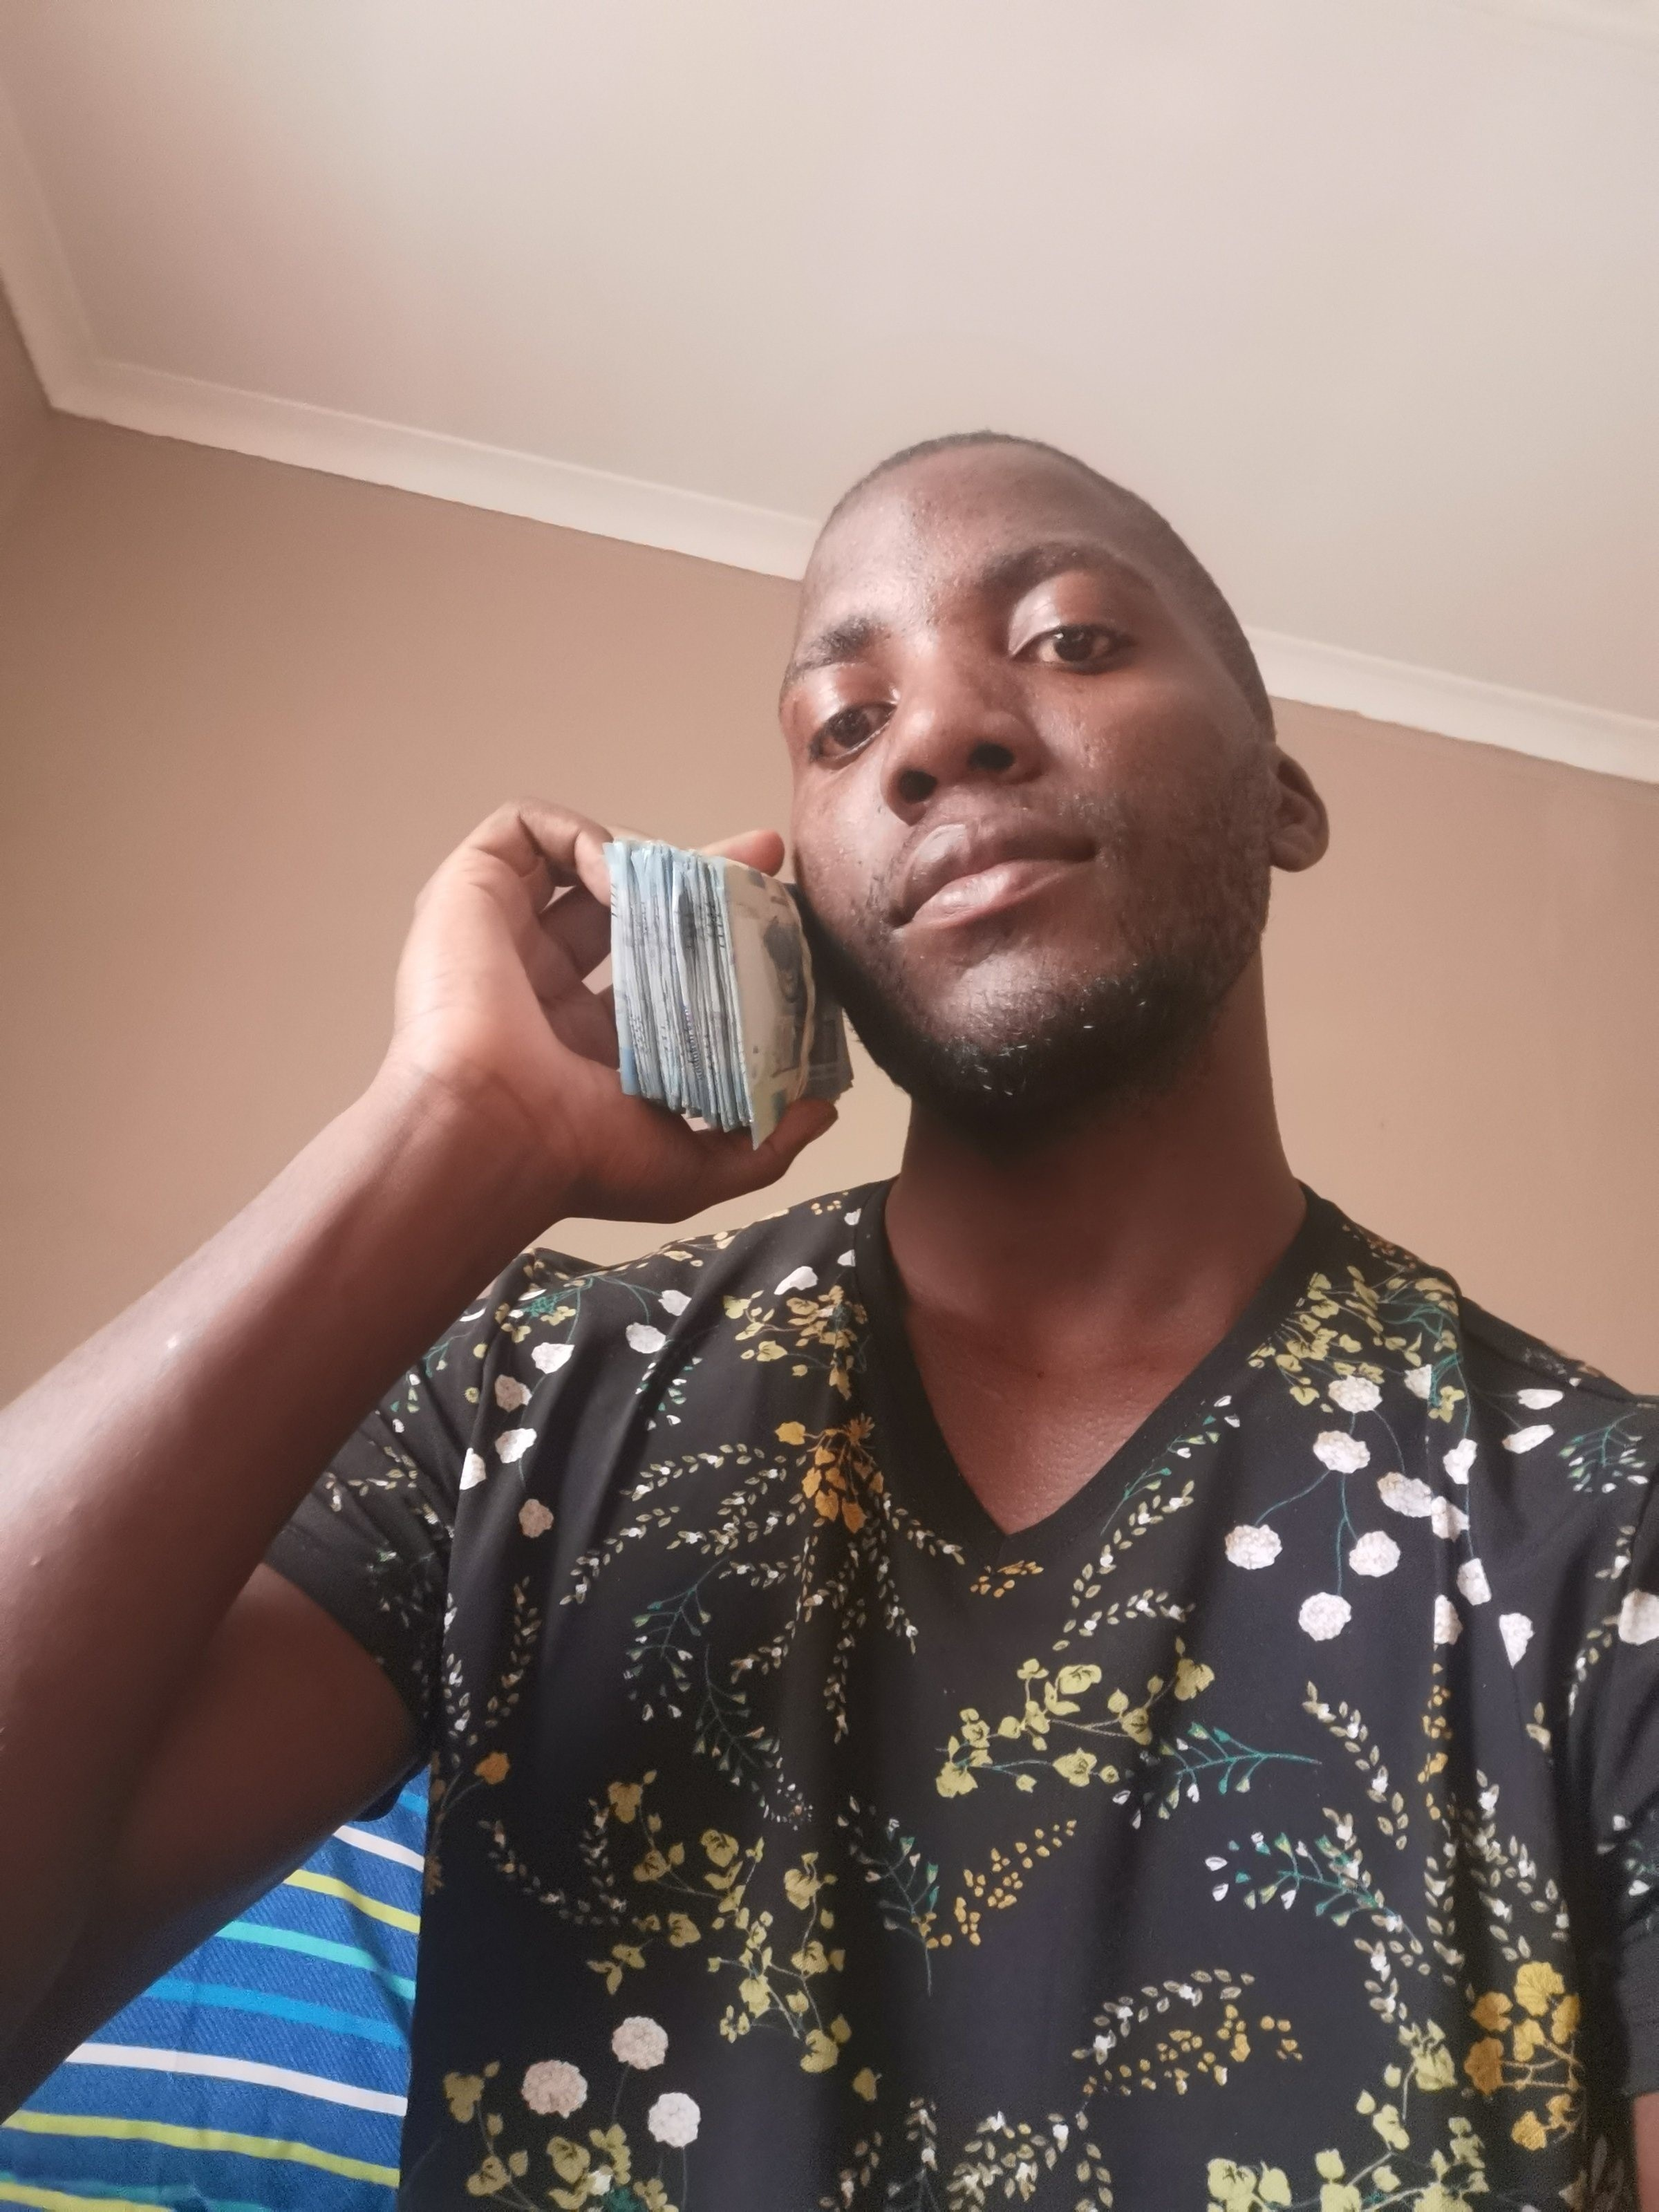face_no_mask: (776, 432, 1337, 1098)
